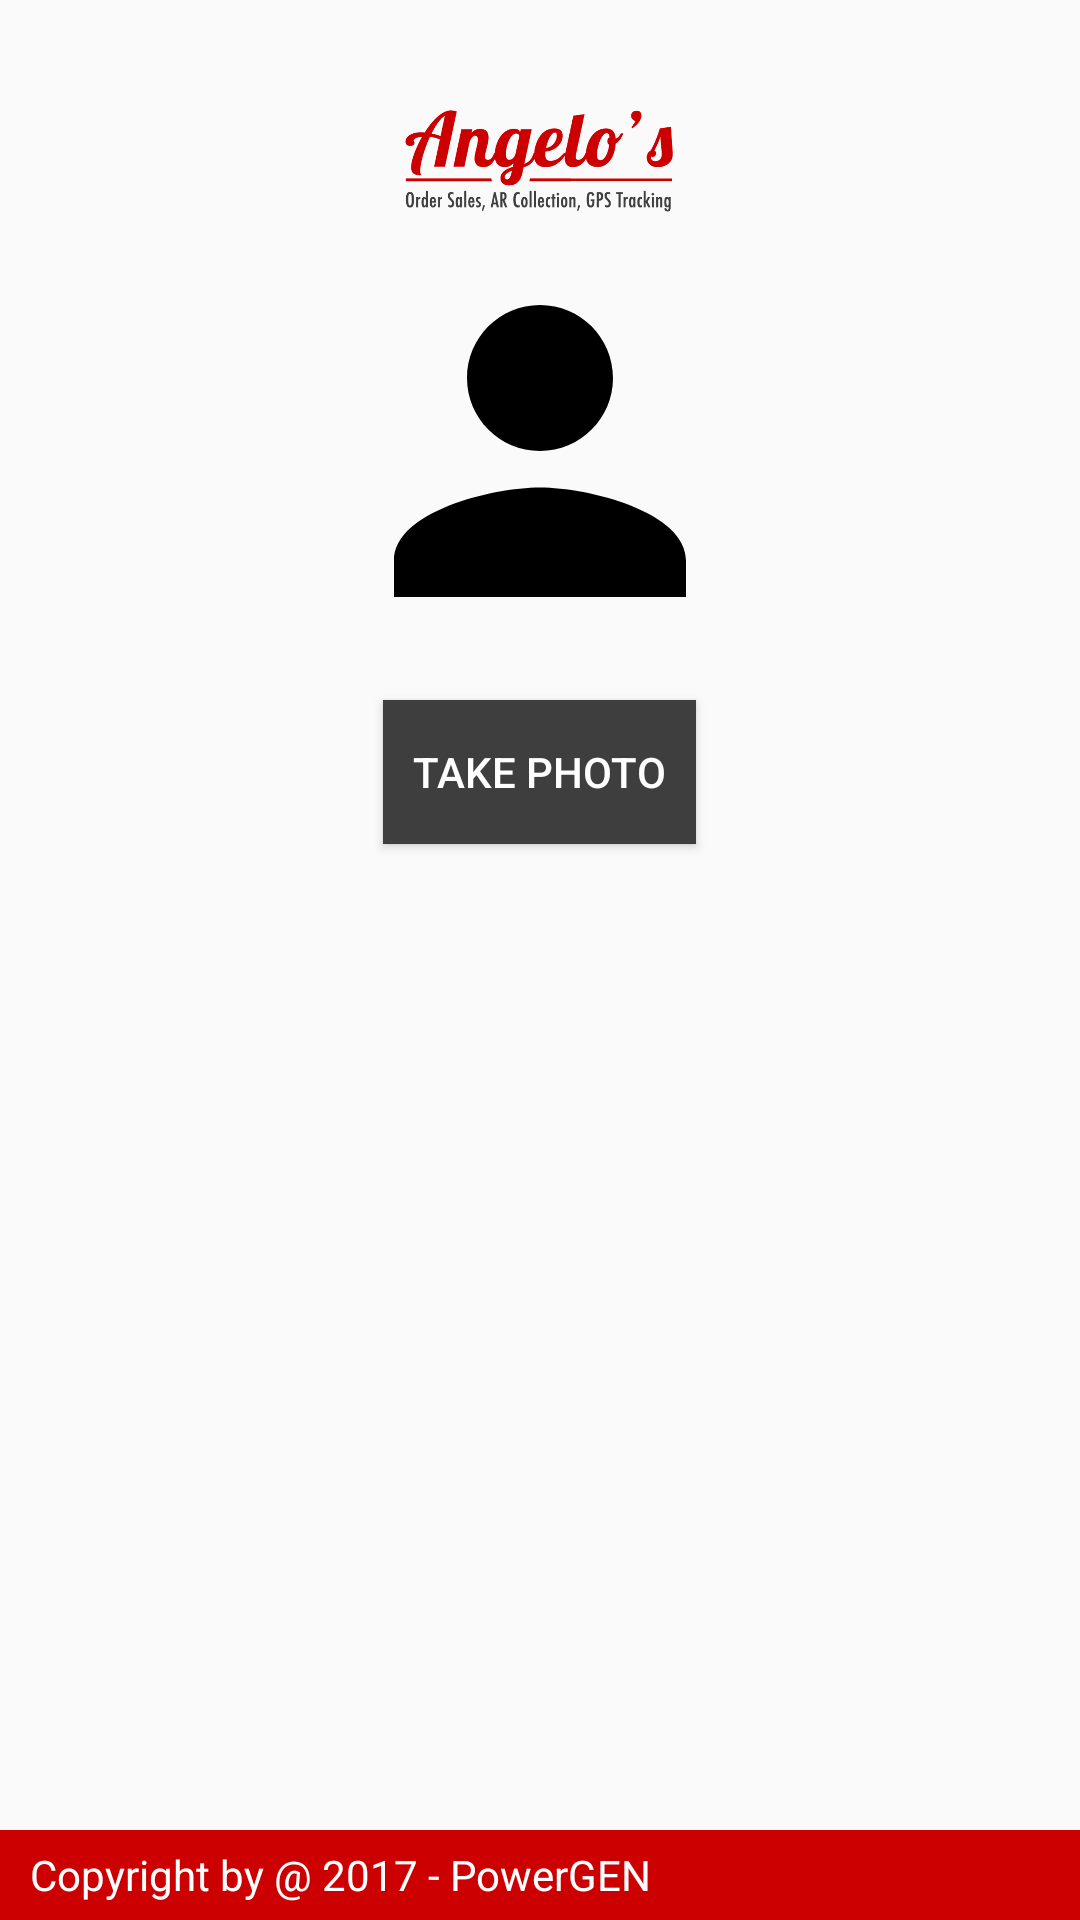

Named icons in this screenshot (1080*1920) and their centers, [x,y]:
person: [540,451]
